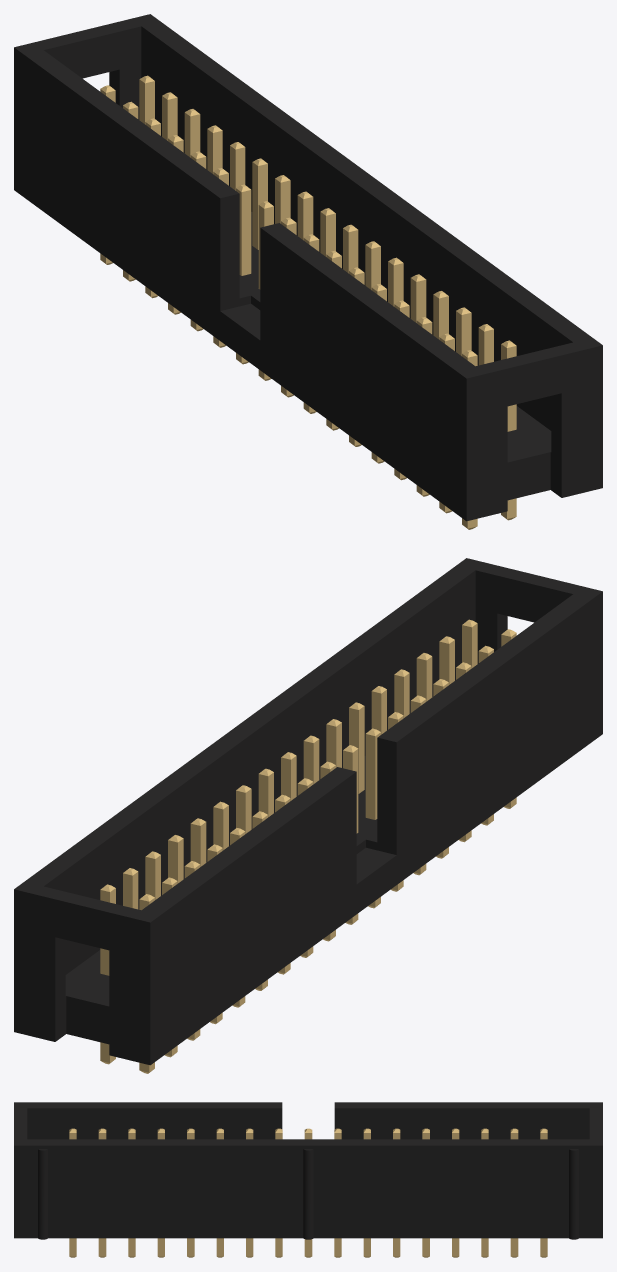
Rendered from kc-idc-header_2x17_p2.54mm_vertical.glb.
3 renders of one model, top to bottom at view 1: azimuth 30°, elevation 25°; view 2: azimuth 150°, elevation 25°; view 3: azimuth 270°, elevation 25°, orthographic. The views are drawn at different scales.
Visible parts, largest first — view 1: 0_0_0_0, 0.75_0.5_0.25_0.9; view 2: 0_0_0_0, 0.75_0.5_0.25_0.9; view 3: 0_0_0_0, 0.75_0.5_0.25_0.9.
Boxes of the visible parts, x1,y1,x2,y2 form: 0_0_0_0: (14,14,602,521); 0.75_0.5_0.25_0.9: (100,75,516,529); 0_0_0_0: (14,558,602,1065); 0.75_0.5_0.25_0.9: (100,619,516,1073); 0_0_0_0: (14,1102,602,1239); 0.75_0.5_0.25_0.9: (69,1128,547,1257).
Bounding box in the file's own units: 0.9098 × 1.21 × 5.08.
